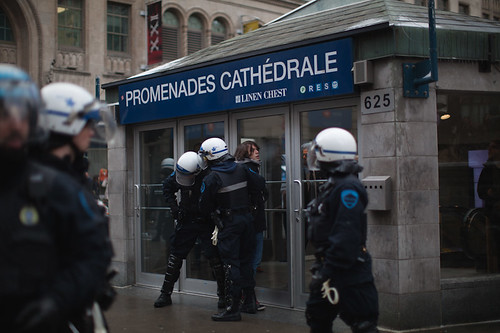building: (108, 1, 500, 318)
policeman: (297, 122, 391, 333), (203, 136, 263, 326), (160, 154, 210, 311)
sign: (119, 44, 359, 128)
